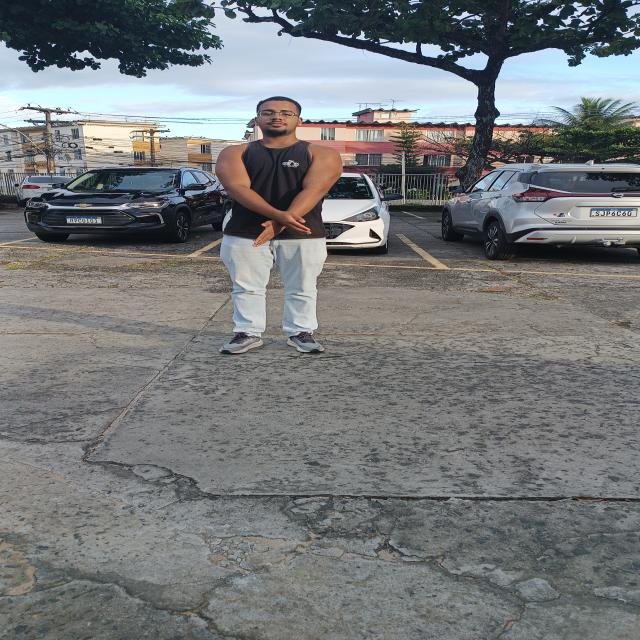land: (215, 96, 341, 354)
